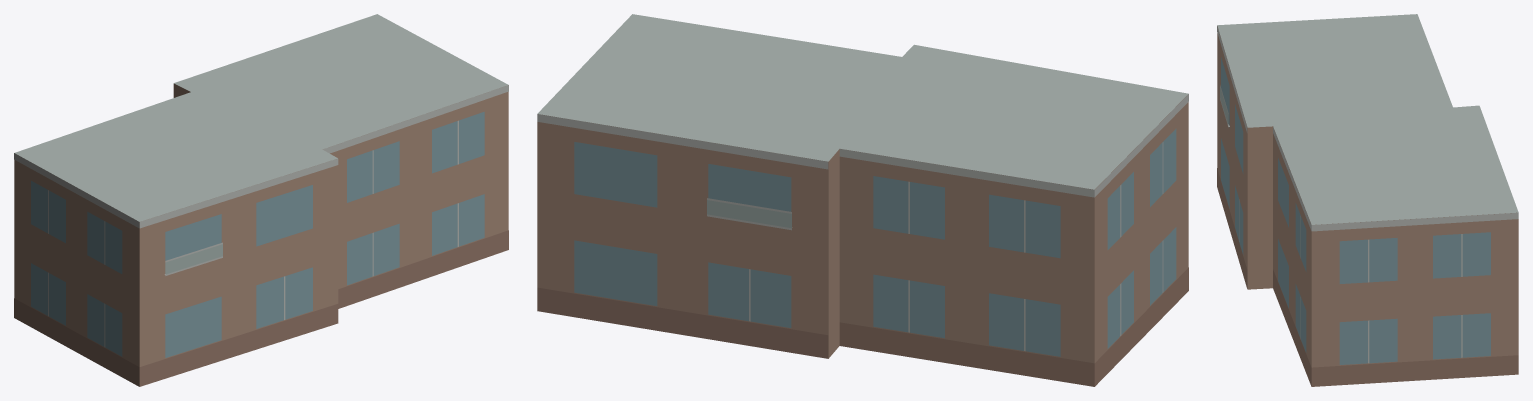
Rendered from survey-upis-32895211.glb.
3 views of the same model, side by side, from view 1: azimuth 30°, elevation 25°; view 2: azimuth 150°, elevation 25°; view 3: azimuth 270°, elevation 25° (orthographic). The views are drawn at different scales.
Parts seen in each view (by area): view 1: survey-upis-32895211.tmp; view 2: survey-upis-32895211.tmp; view 3: survey-upis-32895211.tmp.
Part boxes in pixels (box(x1,y1,x2,y2)): survey-upis-32895211.tmp: box(14, 14, 508, 386); survey-upis-32895211.tmp: box(537, 14, 1188, 386); survey-upis-32895211.tmp: box(1217, 14, 1518, 386).
Bounding box in the file's own units: 17.06 × 6.1 × 10.31.
